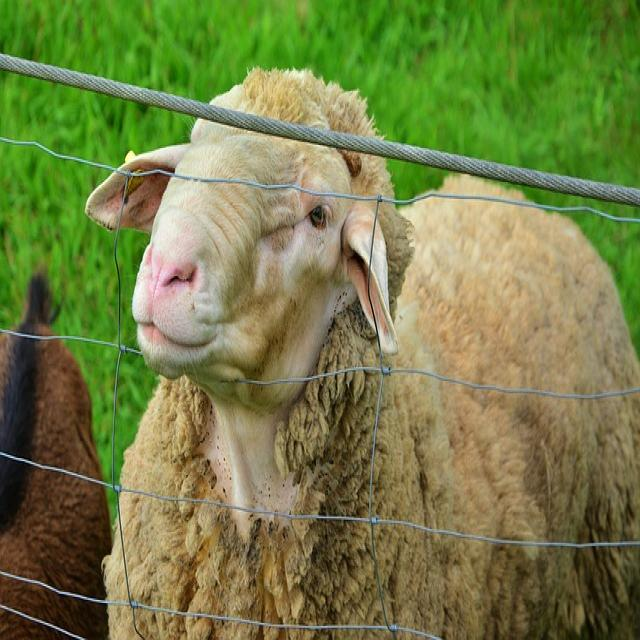goat: (84, 120, 640, 640)
